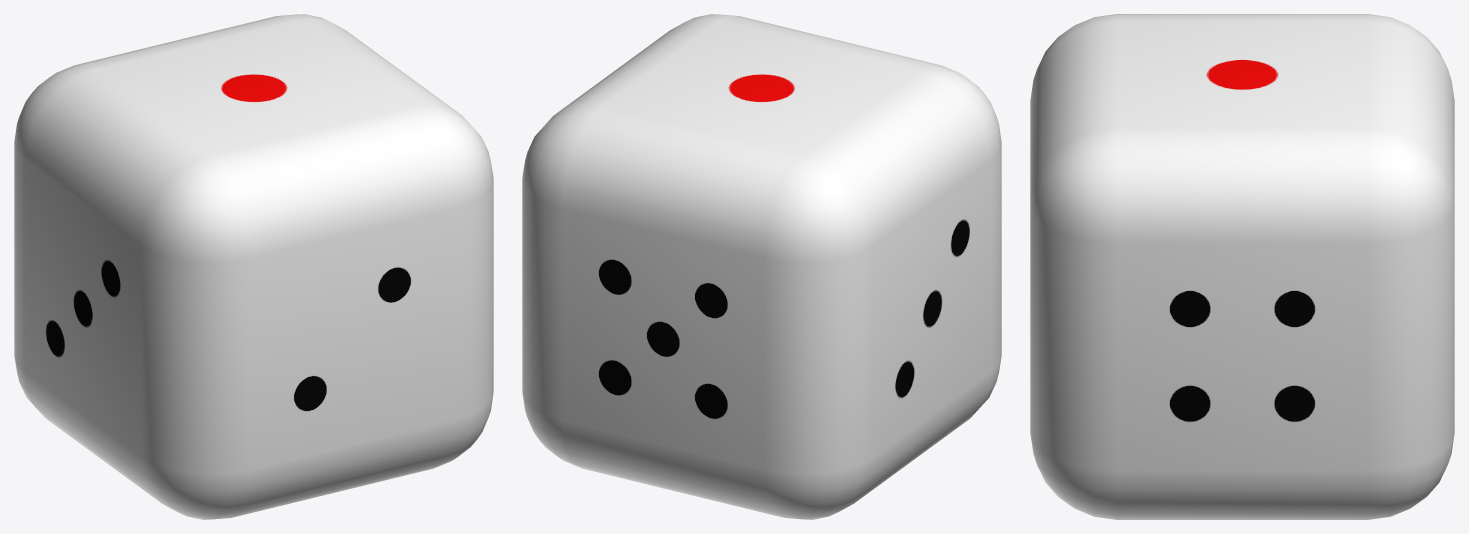
The model's file is SaikoroLite.fbx.
3 views of the same model, side by side, from view 1: azimuth 30°, elevation 25°; view 2: azimuth 150°, elevation 25°; view 3: azimuth 270°, elevation 25° (orthographic). The views are drawn at different scales.
Visible parts, largest first — view 1: Cube; view 2: Cube; view 3: Cube.
Part boxes in pixels (left/top/right/bottom): Cube: left=14, top=14, right=493, bottom=519; Cube: left=522, top=14, right=1001, bottom=519; Cube: left=1030, top=14, right=1454, bottom=519.
Size of the model in its own units: 200 by 200 by 200.
1 material, 1 textured.
